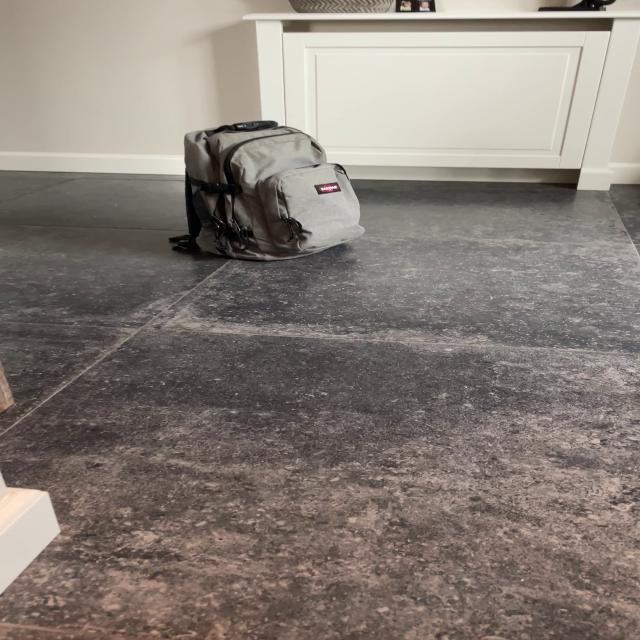backpack: (169, 114, 373, 266)
